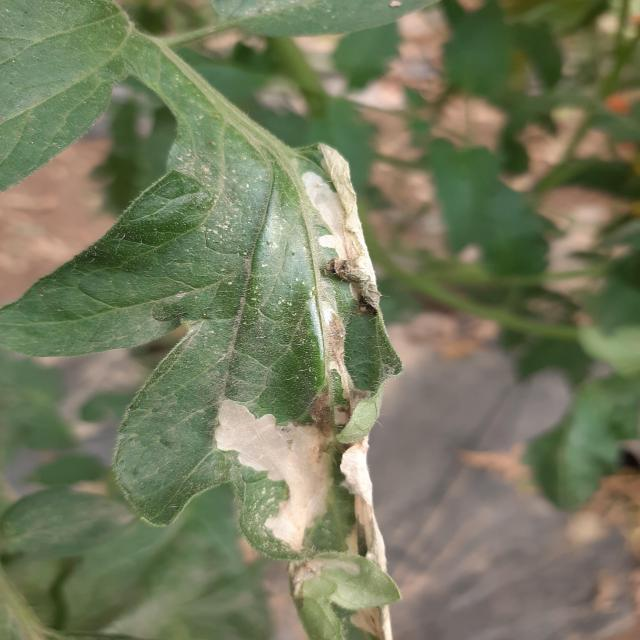Tuta absoluta: (190, 398, 345, 555), (302, 293, 373, 413), (301, 165, 355, 263)
